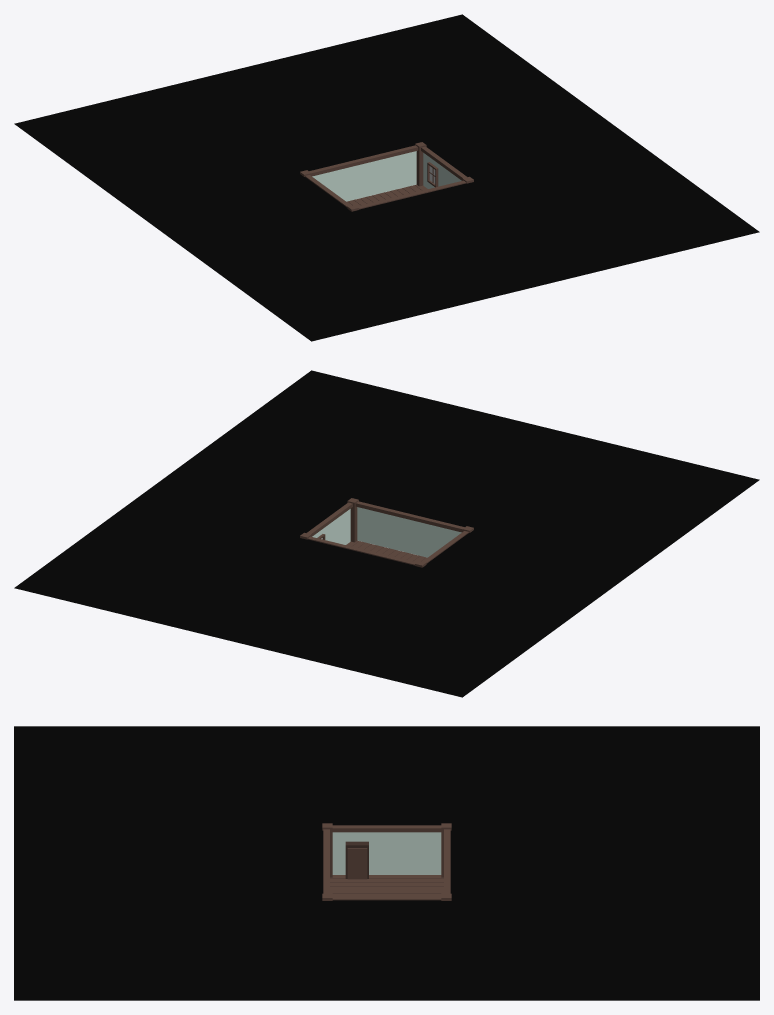
File: house_basic_indoor.glb
The picture shows the model from 3 angles, top to bottom: view 1: azimuth 30°, elevation 25°; view 2: azimuth 150°, elevation 25°; view 3: azimuth 270°, elevation 25°; orthographic projection. The views are drawn at different scales.
Parts seen in each view (by area): view 1: void, walls_lr, wall_frame, floor, walls_fb; view 2: void, walls_lr, wall_frame, walls_fb, floor; view 3: void, walls_fb, floor, wall_frame, door, posts.
Boxes of the visible parts, x1,y1,x2,y2 form: void: (14,14,759,341); walls_lr: (312,151,416,201); wall_frame: (305,145,467,209); floor: (347,184,427,206); walls_fb: (423,153,461,188); void: (14,370,759,697); walls_lr: (357,507,461,557); wall_frame: (306,501,468,565); walls_fb: (312,509,350,544); floor: (346,540,426,562); void: (14,726,759,1000); walls_fb: (332,832,441,874); floor: (330,875,443,896); wall_frame: (323,825,450,900); door: (347,848,367,879); posts: (322,823,451,900).
Size of the model in its own units: 50.57 by 4.38 by 58.09.
